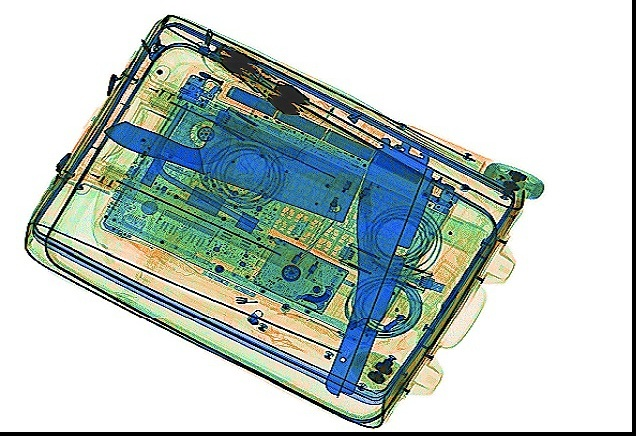knife: (100, 108, 367, 223)
